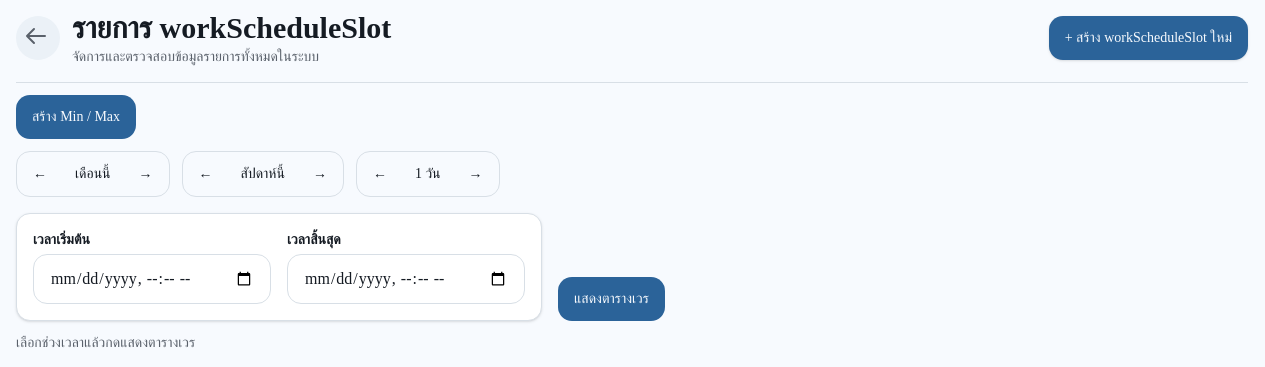
Admin slot calendar period controls › fills the current week in the place timezone without applying or requesting it
Expected: the button "แสดงตารางเวร" is shown, [558, 277, 665, 321]
Step 1. Click the button "สัปดาห์นี้" → (263, 174), box [228, 156, 297, 192]
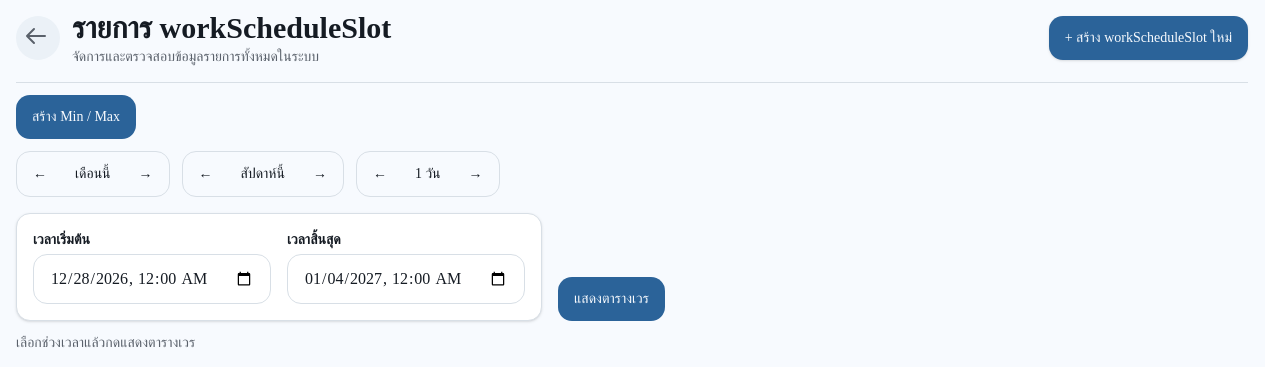
Expected: the number of fields is 2, [33, 254, 271, 304]; [287, 254, 525, 304]
Result: the field below "เวลาเริ่มต้น" holds "2026-12-28T00:00" at [33, 254, 271, 304]
Result: the field below "เวลาสิ้นสุด" holds "2027-01-04T00:00" at [287, 254, 525, 304]
